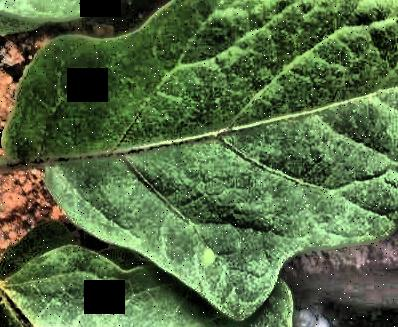HEALTHY: (0, 1, 398, 327)
